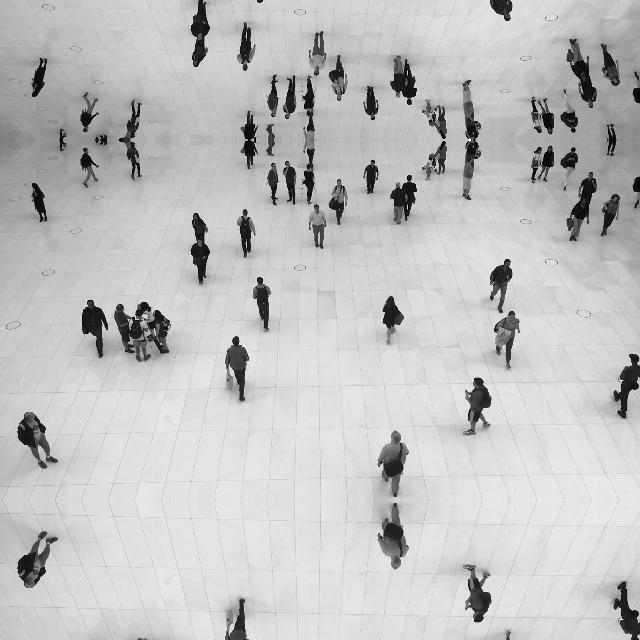person: (17, 412, 58, 468), (17, 532, 58, 588), (376, 430, 409, 498), (376, 502, 409, 570), (612, 353, 640, 419), (463, 376, 493, 436), (463, 564, 493, 624), (224, 336, 250, 402), (612, 581, 639, 640), (494, 310, 520, 370), (82, 300, 108, 358), (128, 309, 152, 363), (490, 258, 512, 314), (252, 276, 272, 332), (114, 304, 136, 354), (382, 296, 404, 346), (566, 198, 590, 242), (566, 38, 590, 82), (224, 598, 249, 640), (236, 21, 256, 70), (236, 210, 256, 258), (308, 204, 328, 250), (308, 30, 328, 76), (151, 310, 171, 354), (190, 240, 210, 284), (560, 147, 580, 191), (560, 89, 580, 133), (329, 179, 348, 225), (329, 55, 348, 101), (600, 194, 620, 236), (600, 44, 620, 86), (80, 148, 100, 188), (578, 172, 598, 212), (190, 0, 210, 40), (80, 92, 100, 132), (578, 68, 598, 108), (390, 182, 408, 226), (390, 54, 408, 98), (402, 174, 418, 222), (402, 58, 418, 105), (140, 302, 158, 342), (30, 183, 48, 223), (30, 57, 48, 97), (283, 161, 297, 205), (461, 156, 475, 200), (283, 75, 297, 119), (461, 80, 475, 124), (126, 142, 142, 180), (126, 100, 142, 138), (192, 213, 208, 249), (539, 146, 555, 182), (192, 31, 208, 67), (539, 98, 555, 134), (363, 160, 379, 194), (432, 141, 448, 175), (363, 86, 379, 120), (432, 105, 448, 139), (530, 146, 544, 184), (530, 96, 544, 134), (267, 74, 279, 118), (267, 162, 279, 205), (302, 163, 314, 204), (489, 0, 512, 21), (242, 140, 258, 170), (302, 76, 314, 116), (242, 110, 258, 140), (464, 116, 482, 140), (422, 154, 438, 180), (422, 100, 438, 126), (464, 140, 482, 163), (303, 140, 317, 168), (303, 112, 317, 140), (493, 630, 520, 640), (632, 72, 640, 105), (632, 176, 640, 208), (606, 140, 618, 156), (606, 124, 618, 140), (265, 140, 275, 156), (265, 124, 275, 140), (58, 140, 68, 152), (58, 128, 68, 140), (128, 637, 151, 640), (252, 0, 272, 3), (100, 140, 108, 146), (100, 134, 108, 140), (94, 140, 100, 144), (94, 136, 100, 140)
